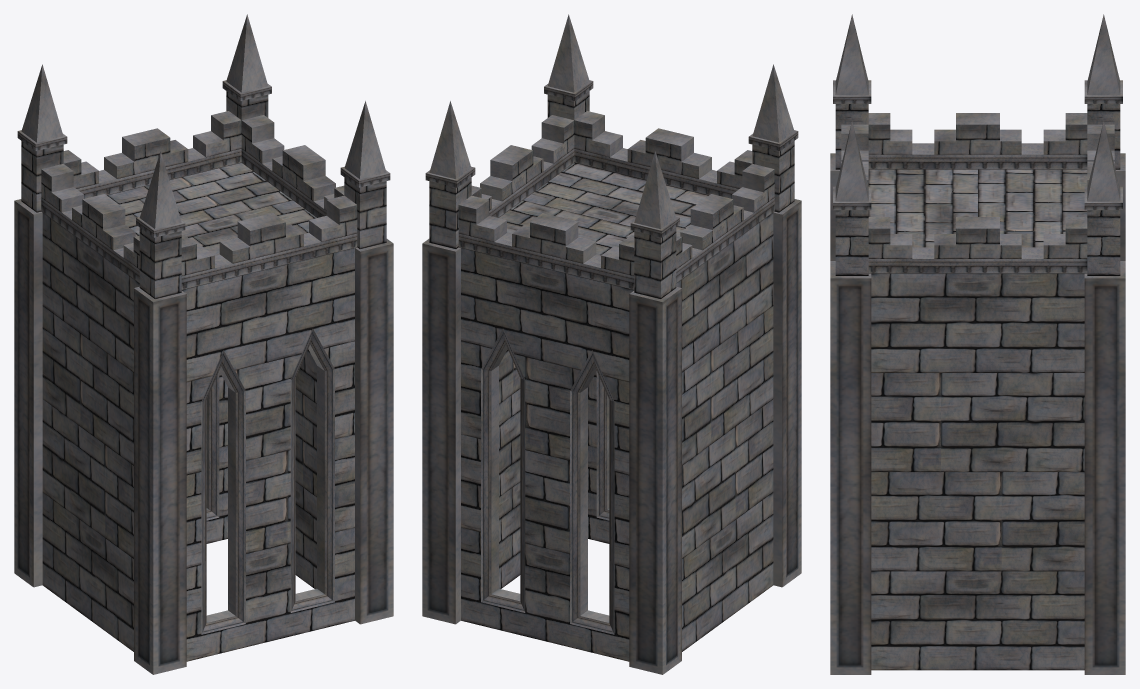
The model's file is tower_cap_01.glb.
The picture shows the model from 3 angles, left to right: view 1: azimuth 30°, elevation 25°; view 2: azimuth 150°, elevation 25°; view 3: azimuth 270°, elevation 25°; orthographic projection. The views are drawn at different scales.
Parts seen in each view (by area): view 1: tower_cap_01; view 2: tower_cap_01; view 3: tower_cap_01.
Part boxes in pixels (box(x1,y1,x2,y2)): tower_cap_01: box(14, 14, 393, 674); tower_cap_01: box(422, 14, 801, 674); tower_cap_01: box(830, 14, 1125, 674).
Size of the model in its own units: 10.8 by 22 by 10.8.
Materials: 1 (1 with a texture image).
